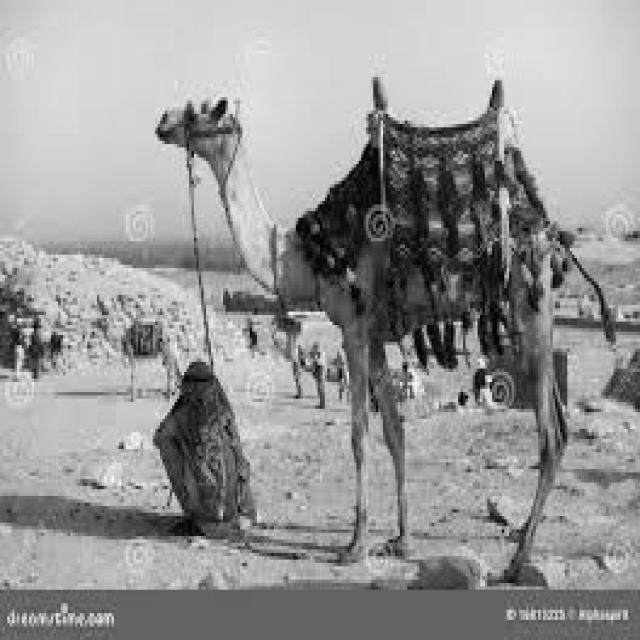Camel: (152, 73, 616, 580)
